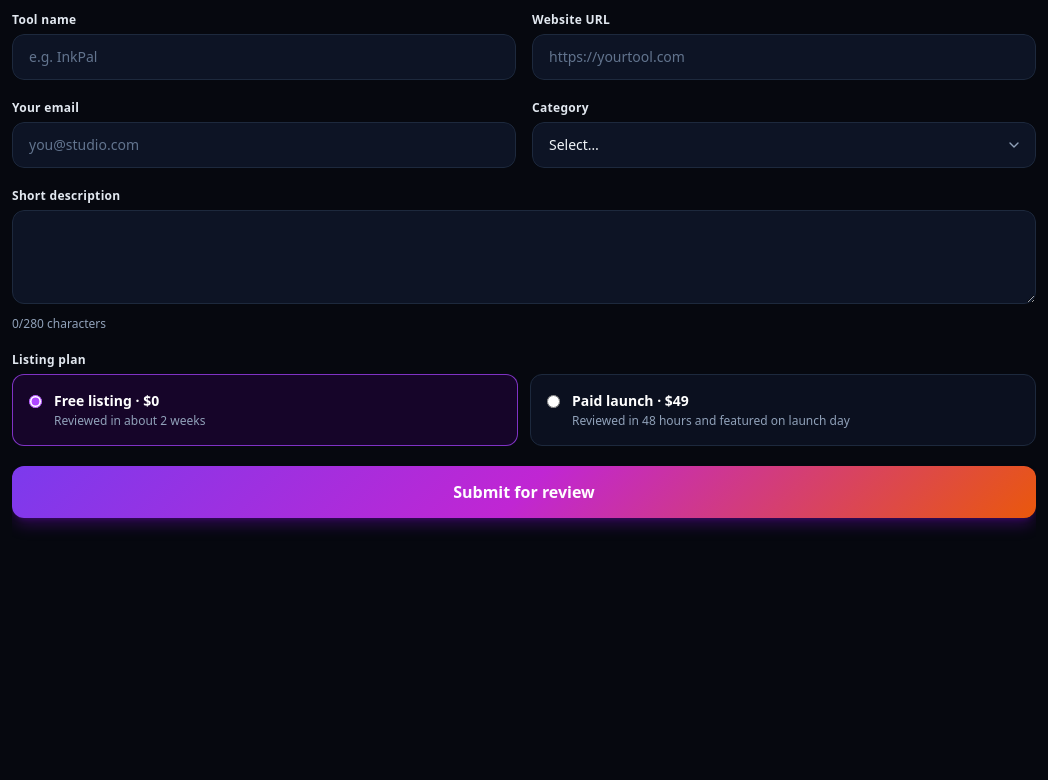
SubmitToolForm › shows every error and sends nothing when submitted empty
What coordinates should you click on to do the following:
click the button "Submit for review"
I would click on:
 (524, 492)
Its box is [12,466,1036,518].
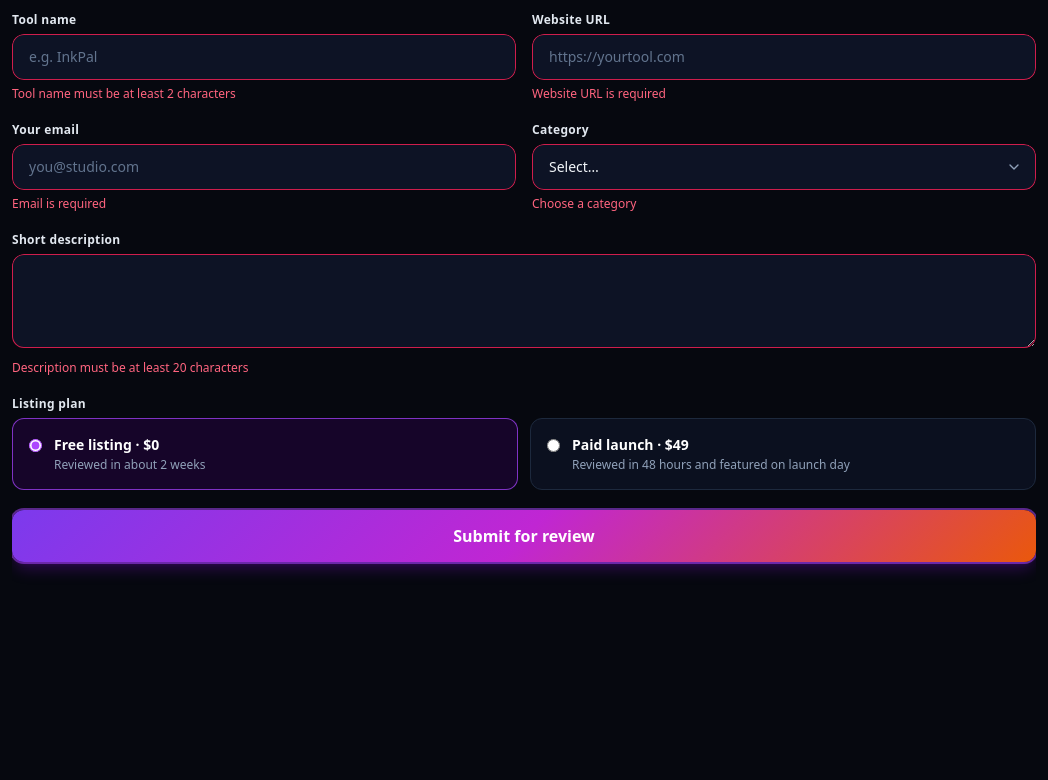
Expected: the text "Tool name must be at least 2 characters" is shown, [12,85,236,102]
Expected: the text "Website URL is required" is shown, [532,85,666,102]
Expected: the text "Email is required" is shown, [12,195,106,212]
